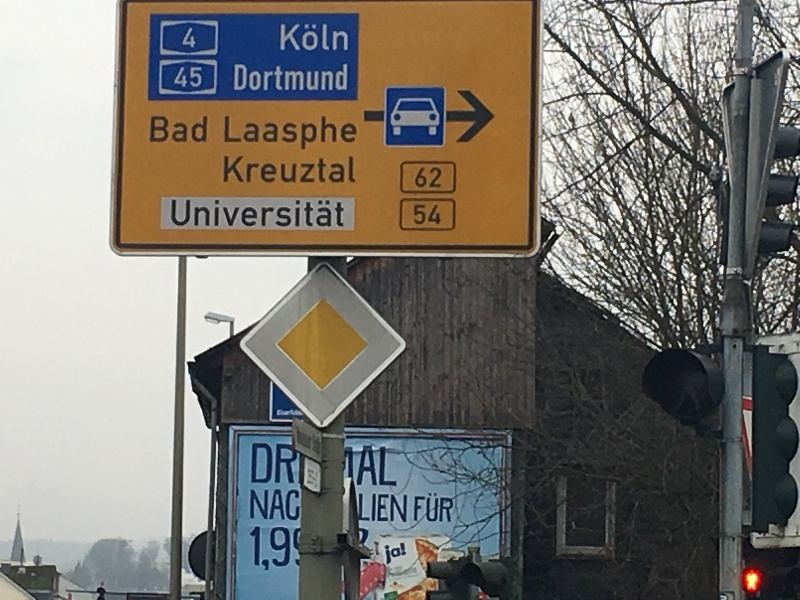text: (257, 527, 272, 571), (273, 527, 288, 571), (257, 443, 272, 485), (273, 443, 288, 485), (369, 446, 384, 488), (289, 527, 302, 571), (385, 446, 398, 488), (225, 117, 240, 151), (241, 117, 256, 151), (257, 117, 272, 151), (273, 117, 288, 151), (289, 117, 304, 151), (305, 117, 320, 151), (321, 117, 336, 151), (337, 117, 352, 151), (257, 489, 272, 522), (273, 489, 288, 522), (417, 493, 432, 523), (433, 493, 448, 523), (369, 494, 384, 523), (385, 494, 400, 523), (225, 155, 240, 184), (241, 155, 256, 184), (257, 155, 272, 184), (273, 155, 288, 184), (289, 155, 304, 184), (305, 155, 320, 184), (321, 155, 336, 184), (337, 155, 352, 184), (289, 24, 304, 52), (305, 24, 320, 52), (321, 24, 336, 52), (241, 64, 256, 92), (257, 64, 272, 92), (273, 64, 288, 92), (289, 64, 304, 92), (305, 64, 320, 92), (321, 64, 336, 92), (177, 200, 192, 228), (193, 200, 208, 228), (209, 200, 224, 228), (225, 200, 240, 228), (241, 200, 256, 228), (257, 200, 272, 228), (273, 200, 288, 228), (289, 200, 304, 228), (305, 200, 320, 228), (321, 200, 336, 228), (161, 116, 176, 143), (177, 116, 192, 143), (193, 116, 208, 143), (289, 443, 298, 485), (289, 489, 300, 522), (385, 542, 400, 565), (337, 24, 349, 52), (337, 64, 348, 92), (417, 205, 432, 225), (344, 446, 352, 480), (250, 527, 256, 571), (359, 494, 368, 523), (420, 167, 432, 188), (151, 116, 160, 143), (193, 66, 204, 88), (280, 24, 288, 52), (337, 200, 345, 228), (182, 66, 192, 88), (363, 446, 368, 488), (401, 494, 408, 523), (308, 469, 320, 485), (433, 167, 442, 188), (353, 117, 358, 151), (252, 443, 256, 485), (234, 64, 240, 92), (251, 489, 256, 522), (359, 527, 368, 545), (433, 205, 441, 225), (449, 493, 454, 523), (305, 430, 312, 450), (313, 435, 320, 455), (171, 200, 176, 228), (401, 542, 407, 565), (298, 430, 304, 450), (289, 410, 303, 417), (193, 27, 197, 49), (353, 155, 356, 184), (277, 410, 288, 417), (189, 27, 192, 49), (414, 205, 416, 225), (415, 493, 416, 523)
